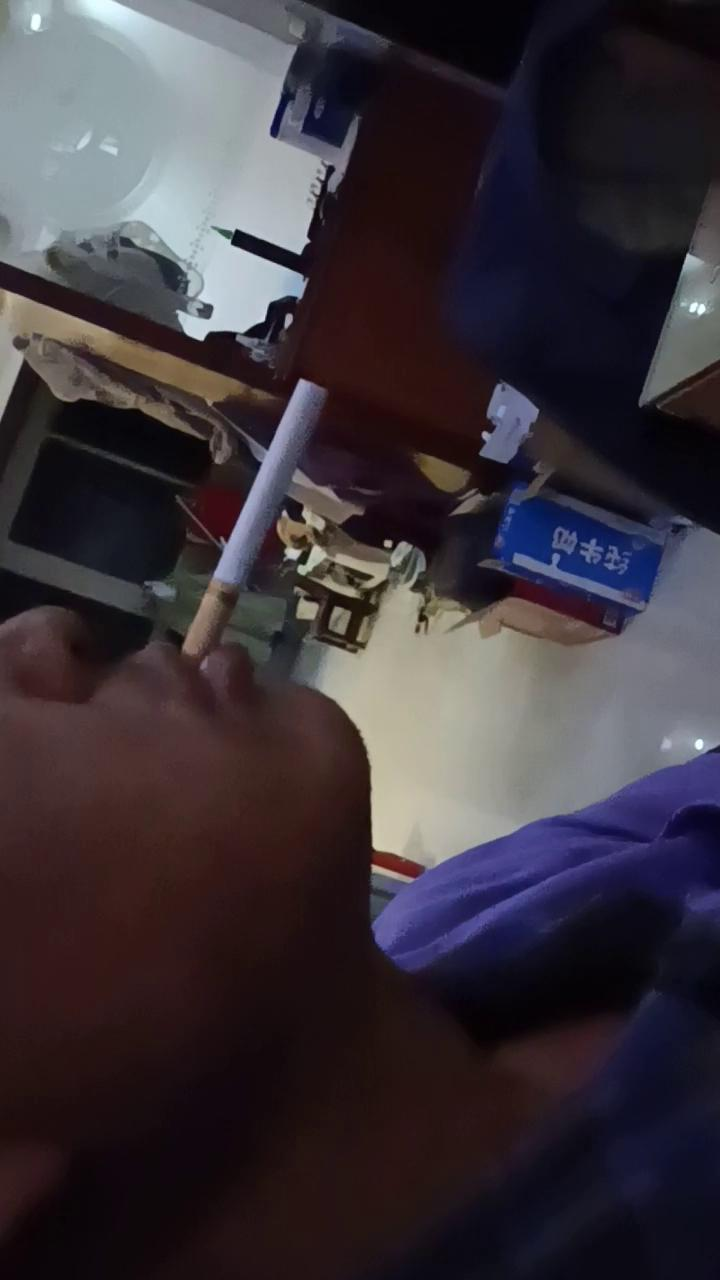smoke: (183, 376, 330, 662)
